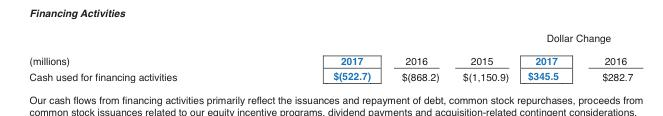table: (28, 29, 632, 84)
table column: (28, 29, 254, 84), (254, 29, 385, 84), (450, 29, 517, 84), (385, 29, 450, 84), (517, 29, 579, 84), (579, 29, 632, 84)
table column header: (28, 29, 632, 68)
table row: (28, 29, 632, 49), (28, 49, 632, 68), (28, 68, 632, 84)
table spanning cell: (28, 29, 254, 68), (254, 29, 385, 68), (450, 29, 517, 68), (385, 29, 450, 68), (517, 29, 632, 49)
